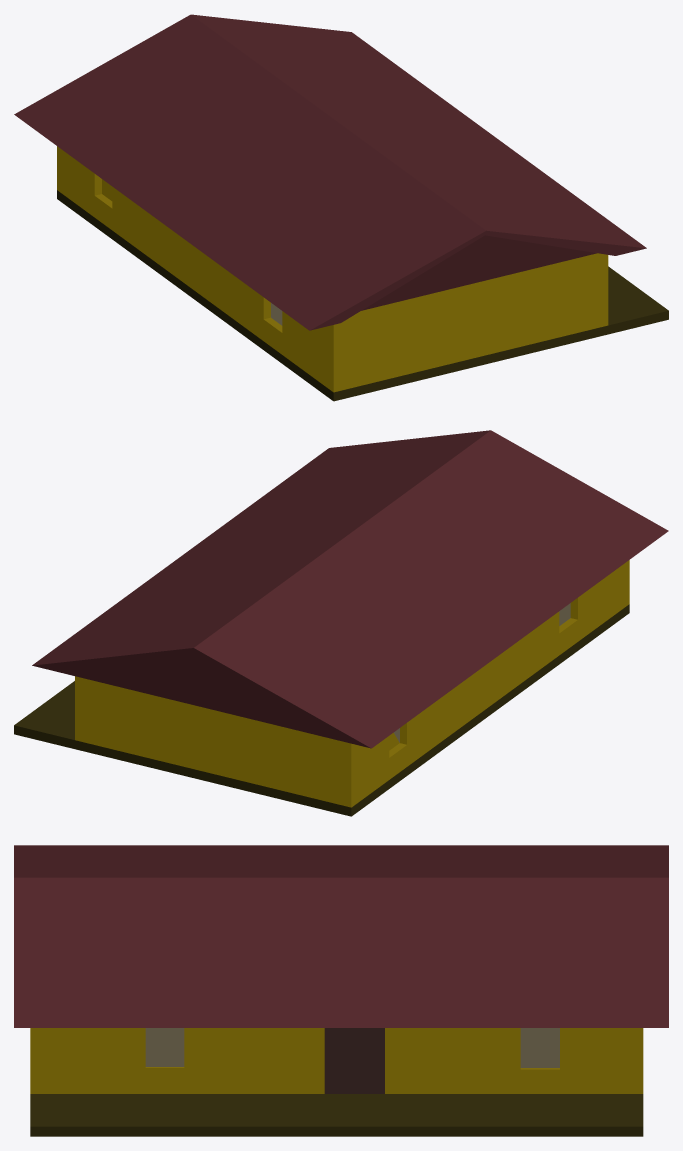
The model's file is cabine.fbx.
The picture shows the model from 3 angles, top to bottom: view 1: azimuth 30°, elevation 25°; view 2: azimuth 150°, elevation 25°; view 3: azimuth 270°, elevation 25°; orthographic projection. The views are drawn at different scales.
Parts seen in each view (by area): view 1: House; view 2: House; view 3: House, Door.
Part boxes in pixels (box(x1,y1,x2,y2)): House: box(14, 14, 668, 401); House: box(14, 430, 668, 816); House: box(14, 845, 668, 1136); Door: box(324, 1028, 384, 1093).
Size of the model in its own units: 13.89 by 9.96 by 3.65.
